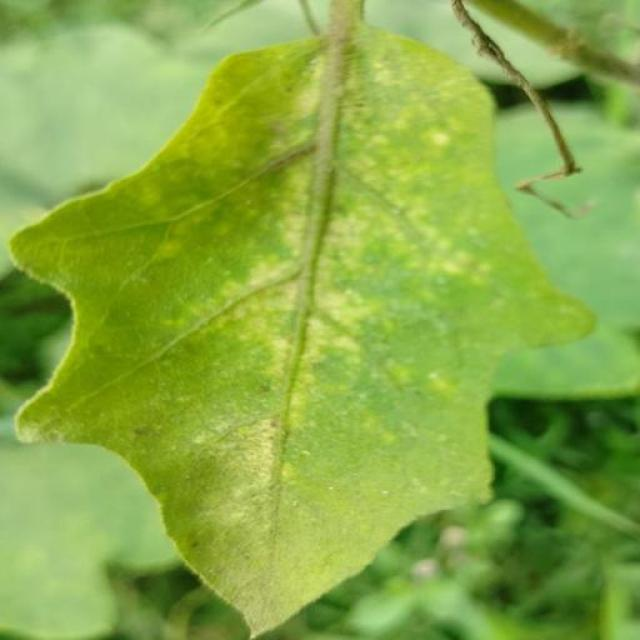leaf_spot: (179, 186, 434, 372), (151, 508, 362, 640), (281, 357, 474, 498), (308, 165, 500, 306), (199, 344, 314, 564), (139, 63, 305, 200), (352, 38, 476, 187), (487, 205, 601, 346), (132, 177, 224, 277), (296, 45, 344, 162), (7, 402, 95, 454), (550, 14, 596, 72)
